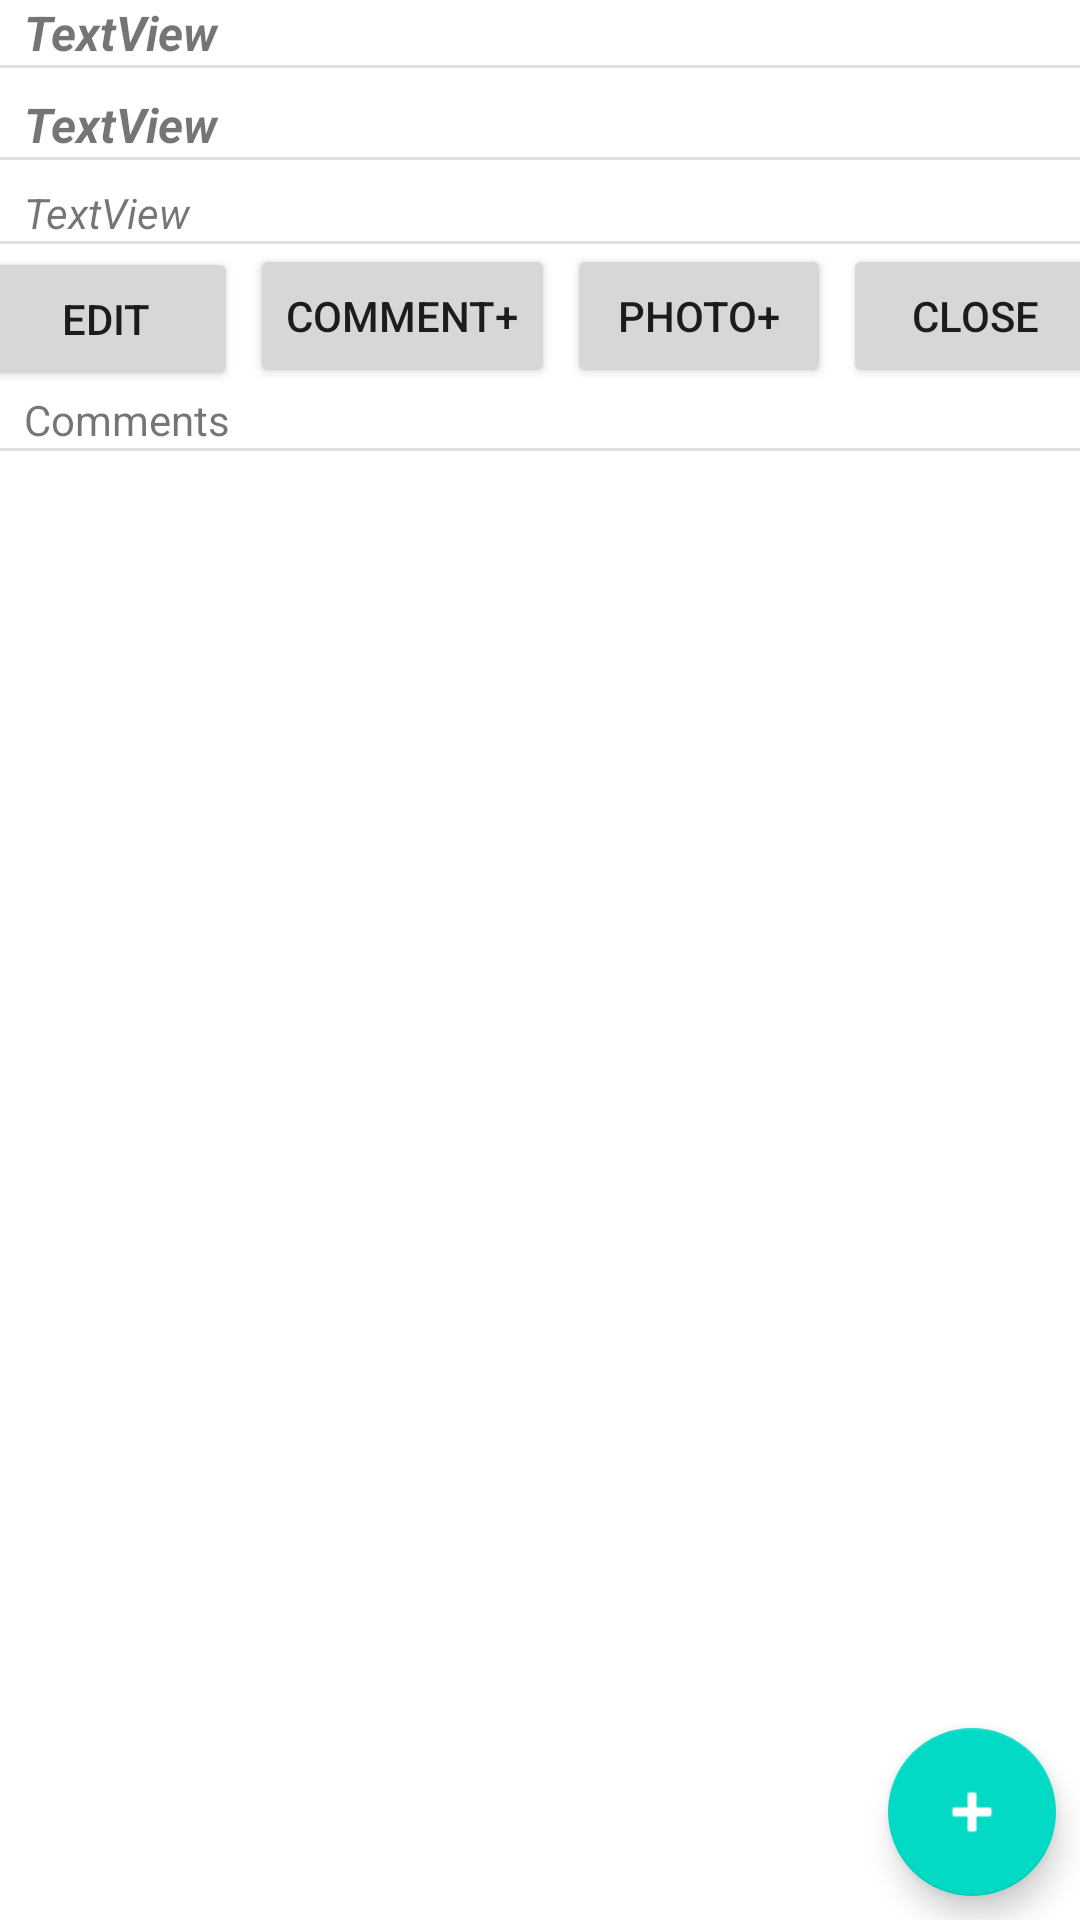

Icon click points for this 1080px x 1920px phone screenshot, format [x,y]:
Add todo: [972,1812]
